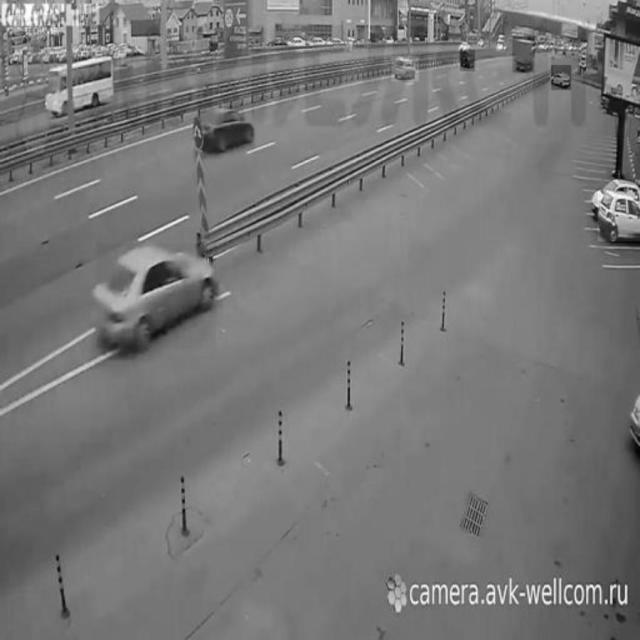vehicle: (97, 244, 217, 348), (45, 55, 115, 113), (200, 103, 256, 153), (598, 191, 640, 241), (513, 36, 535, 72), (392, 57, 419, 82), (551, 65, 571, 90), (459, 50, 475, 70)
